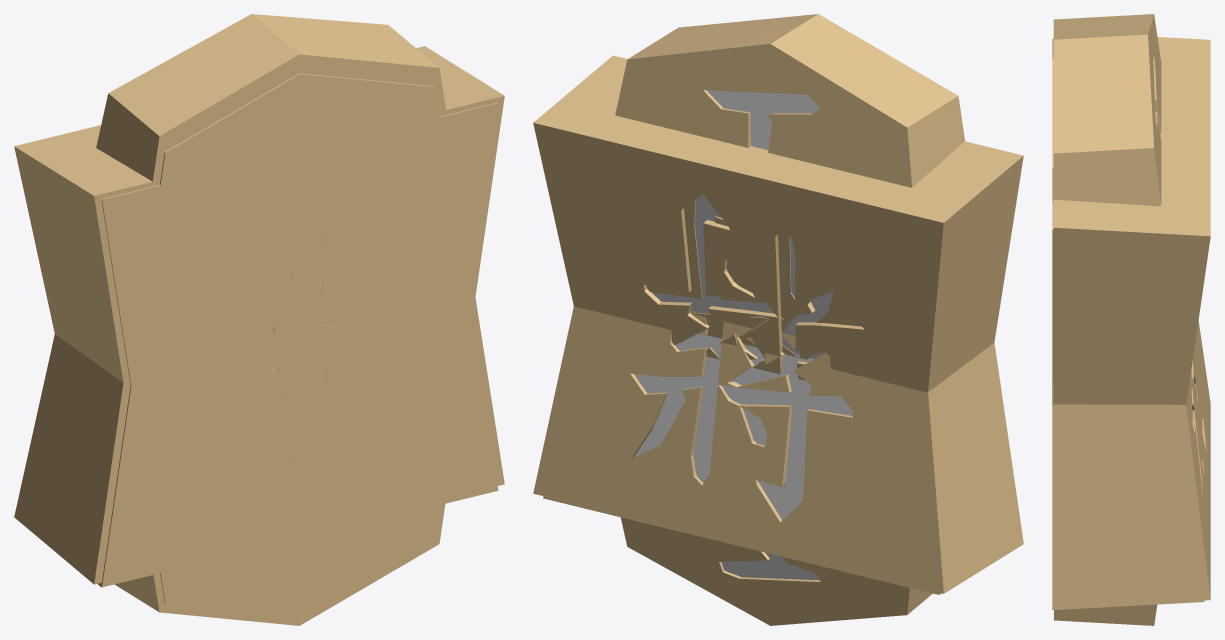
The model's file is shogiPieces.fbx.
The picture shows the model from 3 angles, left to right: view 1: azimuth 30°, elevation 25°; view 2: azimuth 150°, elevation 25°; view 3: azimuth 270°, elevation 25°; orthographic projection.
Parts seen in each view (by area): view 1: shogiw_rook, shogib_rook, shogiw_king, shogib_king, shogiw_knight, shogib_knight; view 2: shogiw_king, shogib_king, shogib_bishop, shogiw_bishop; view 3: shogiw_king, shogib_king, shogiw_rook, shogib_rook, shogiw_bishop.
Boxes of the visible parts, x1,y1,x2,y2 form: shogiw_rook: (98, 73, 498, 587); shogib_rook: (101, 102, 498, 616); shogiw_king: (14, 14, 504, 584); shogib_king: (14, 46, 504, 625); shogiw_knight: (256, 149, 335, 470); shogib_knight: (264, 220, 344, 541); shogiw_king: (533, 14, 1023, 593); shogib_king: (533, 55, 1023, 625); shogib_bishop: (646, 191, 861, 359); shogiw_bishop: (543, 496, 941, 594); shogiw_king: (1053, 14, 1210, 608); shogib_king: (1054, 37, 1210, 625); shogiw_rook: (1052, 38, 1053, 609); shogib_rook: (1052, 201, 1053, 609); shogiw_bishop: (1054, 600, 1204, 609).
Bounding box in the file's own units: 778 × 574 × 196.
